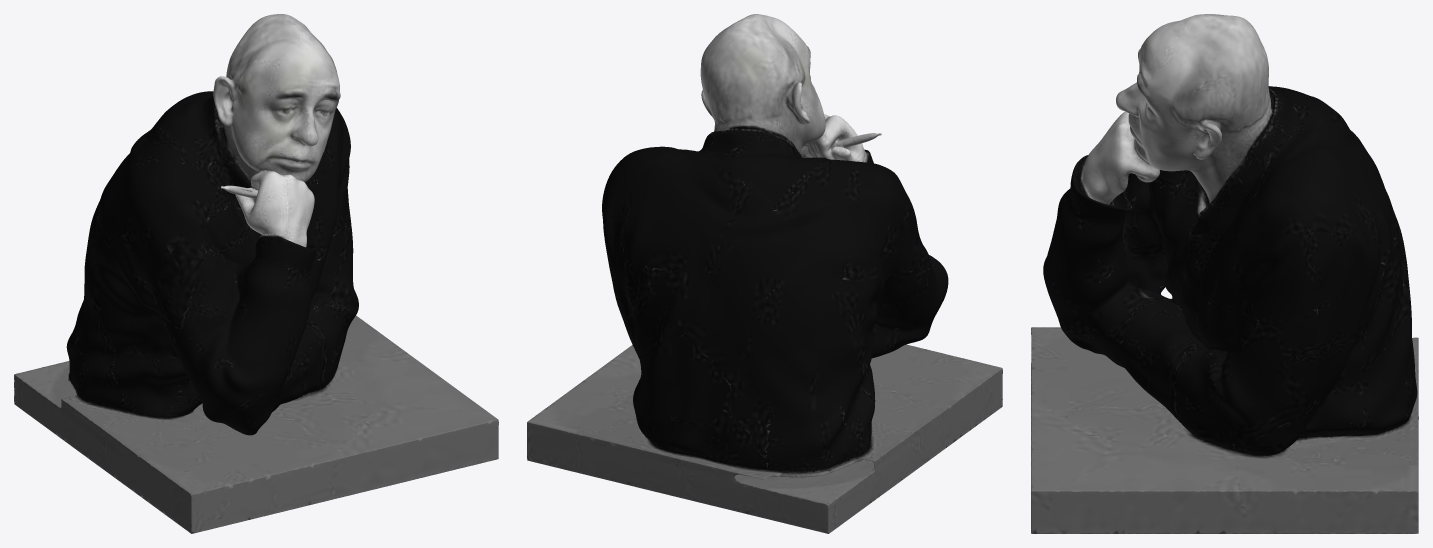
The model's file is Alvar_Aalto_under2MB.glb.
3 views of the same model, side by side, from view 1: azimuth 30°, elevation 25°; view 2: azimuth 150°, elevation 25°; view 3: azimuth 270°, elevation 25° (orthographic). The views are drawn at different scales.
Parts seen in each view (by area): view 1: Mesh_0; view 2: Mesh_0; view 3: Mesh_0.
Boxes of the visible parts, x1,y1,x2,y2 form: Mesh_0: (14,14,498,533); Mesh_0: (527,14,1002,533); Mesh_0: (1031,14,1418,533).
Size of the model in its own units: 1.49 by 1.9 by 1.49.
Materials: 3 (3 with a texture image).
